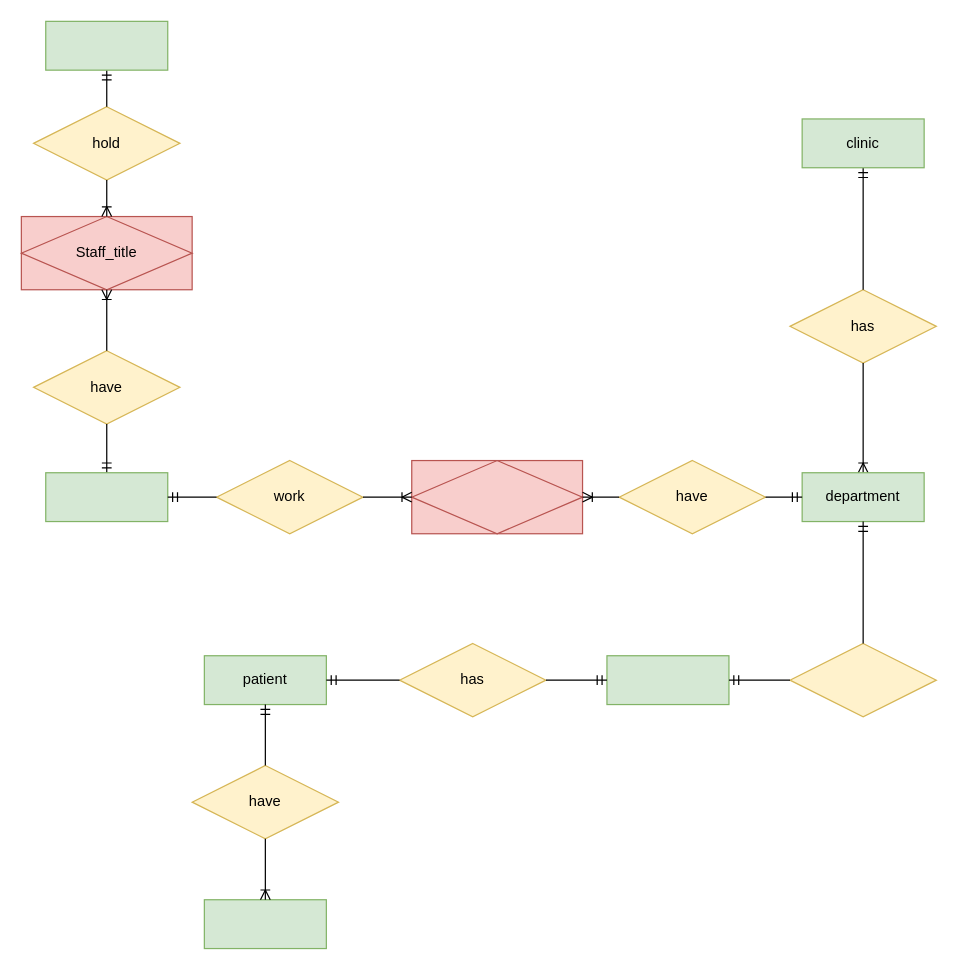
Image size: 958x970. Some labels were removed from this diagram. Each missing label, with the centre of its shape:
associate: [862,679]
insurance: [264,924]
medical claim: [667,680]
staff: [106,497]
Staff_department: [497,496]
title: [106,45]
